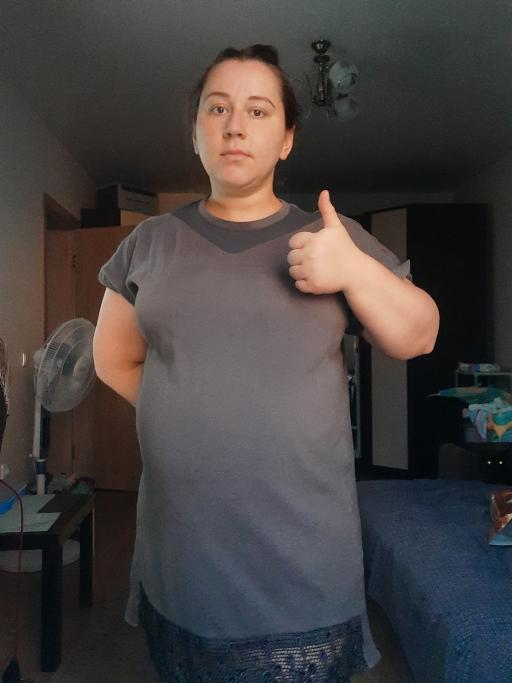like: (285, 186, 352, 294)
